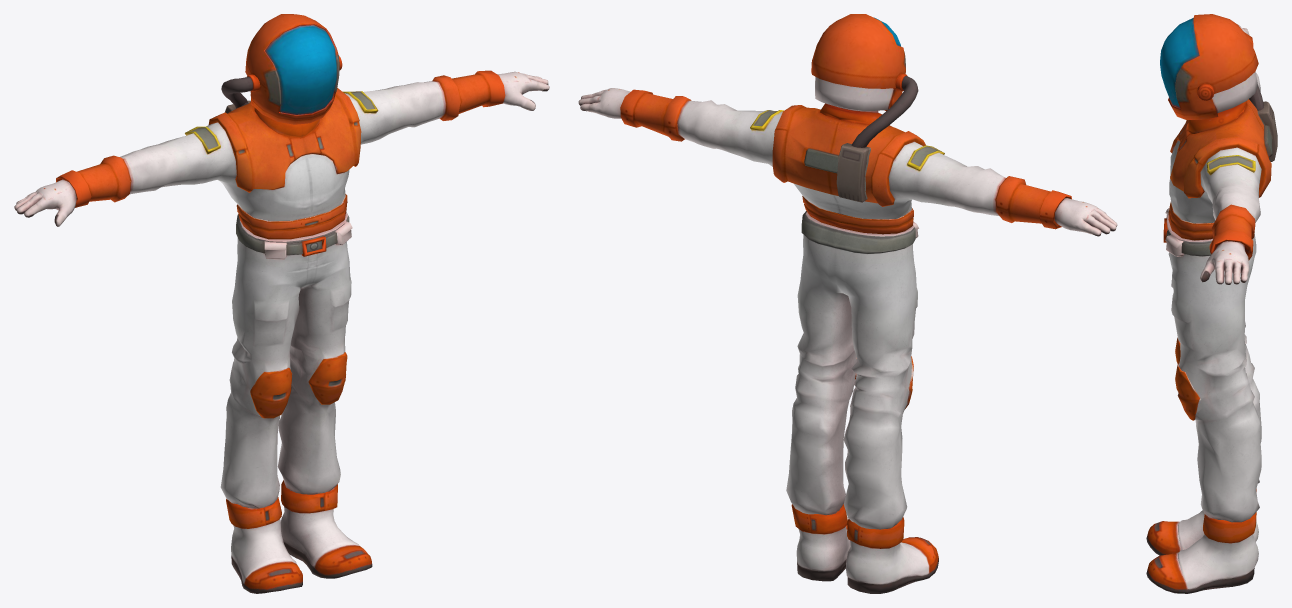
File: RQAJJ8PPDETUS3V5RIVRN9Z9P.obj
The picture shows the model from 3 angles, left to right: view 1: azimuth 30°, elevation 25°; view 2: azimuth 150°, elevation 25°; view 3: azimuth 270°, elevation 25°; orthographic projection.
Parts seen in each view (by area): view 1: RigModelscom; view 2: RigModelscom; view 3: RigModelscom.
Boxes of the visible parts, box(x1,y1,x2,y2) form: RigModelscom: box(14, 14, 549, 593); RigModelscom: box(578, 14, 1117, 593); RigModelscom: box(1146, 14, 1277, 593).
Size of the model in its own units: 250 by 248 by 53.72.
1 material, 1 textured.
